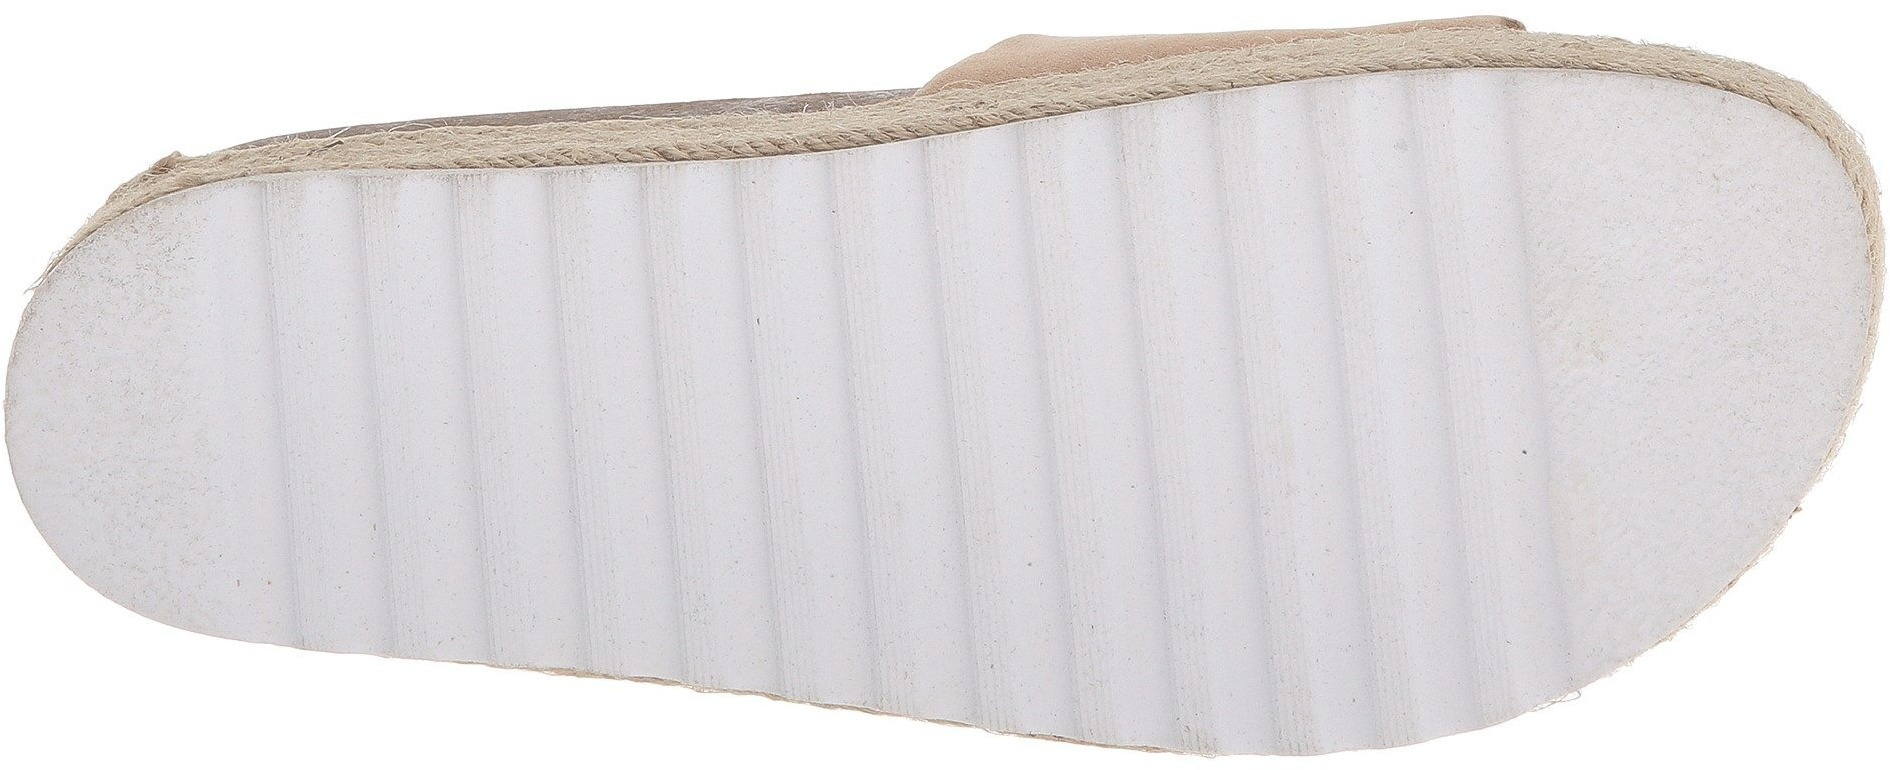line: (869, 248, 1284, 652), (322, 227, 636, 548), (1314, 178, 1562, 433), (642, 390, 849, 599)
